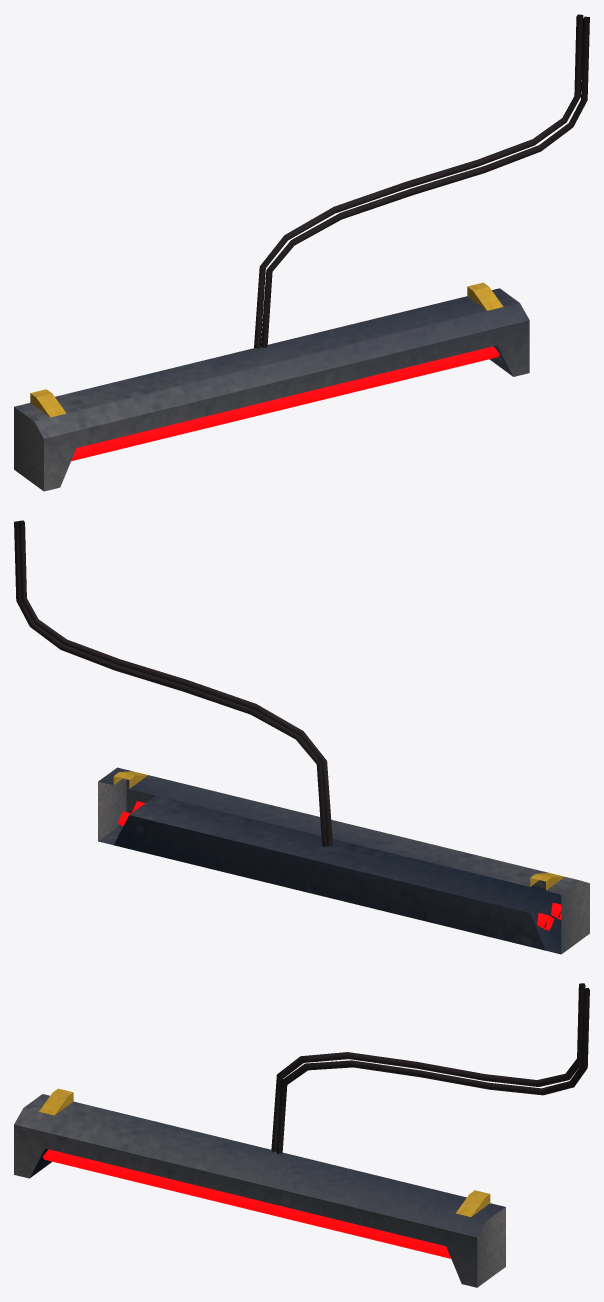
File: SM_PROP_LAMP_01.fbx
The picture shows the model from 3 angles, top to bottom: view 1: azimuth 30°, elevation 25°; view 2: azimuth 150°, elevation 25°; view 3: azimuth 330°, elevation 25°; orthographic projection. The views are drawn at different scales.
Visible parts, largest first — view 1: SM_PROP_LAMP_01; view 2: SM_PROP_LAMP_01; view 3: SM_PROP_LAMP_01.
Part boxes in pixels (box(x1,y1,x2,y2)): SM_PROP_LAMP_01: box(14, 14, 589, 491); SM_PROP_LAMP_01: box(14, 520, 589, 954); SM_PROP_LAMP_01: box(14, 983, 589, 1287).
Size of the model in its own units: 1.66 by 0.8707 by 0.16.
